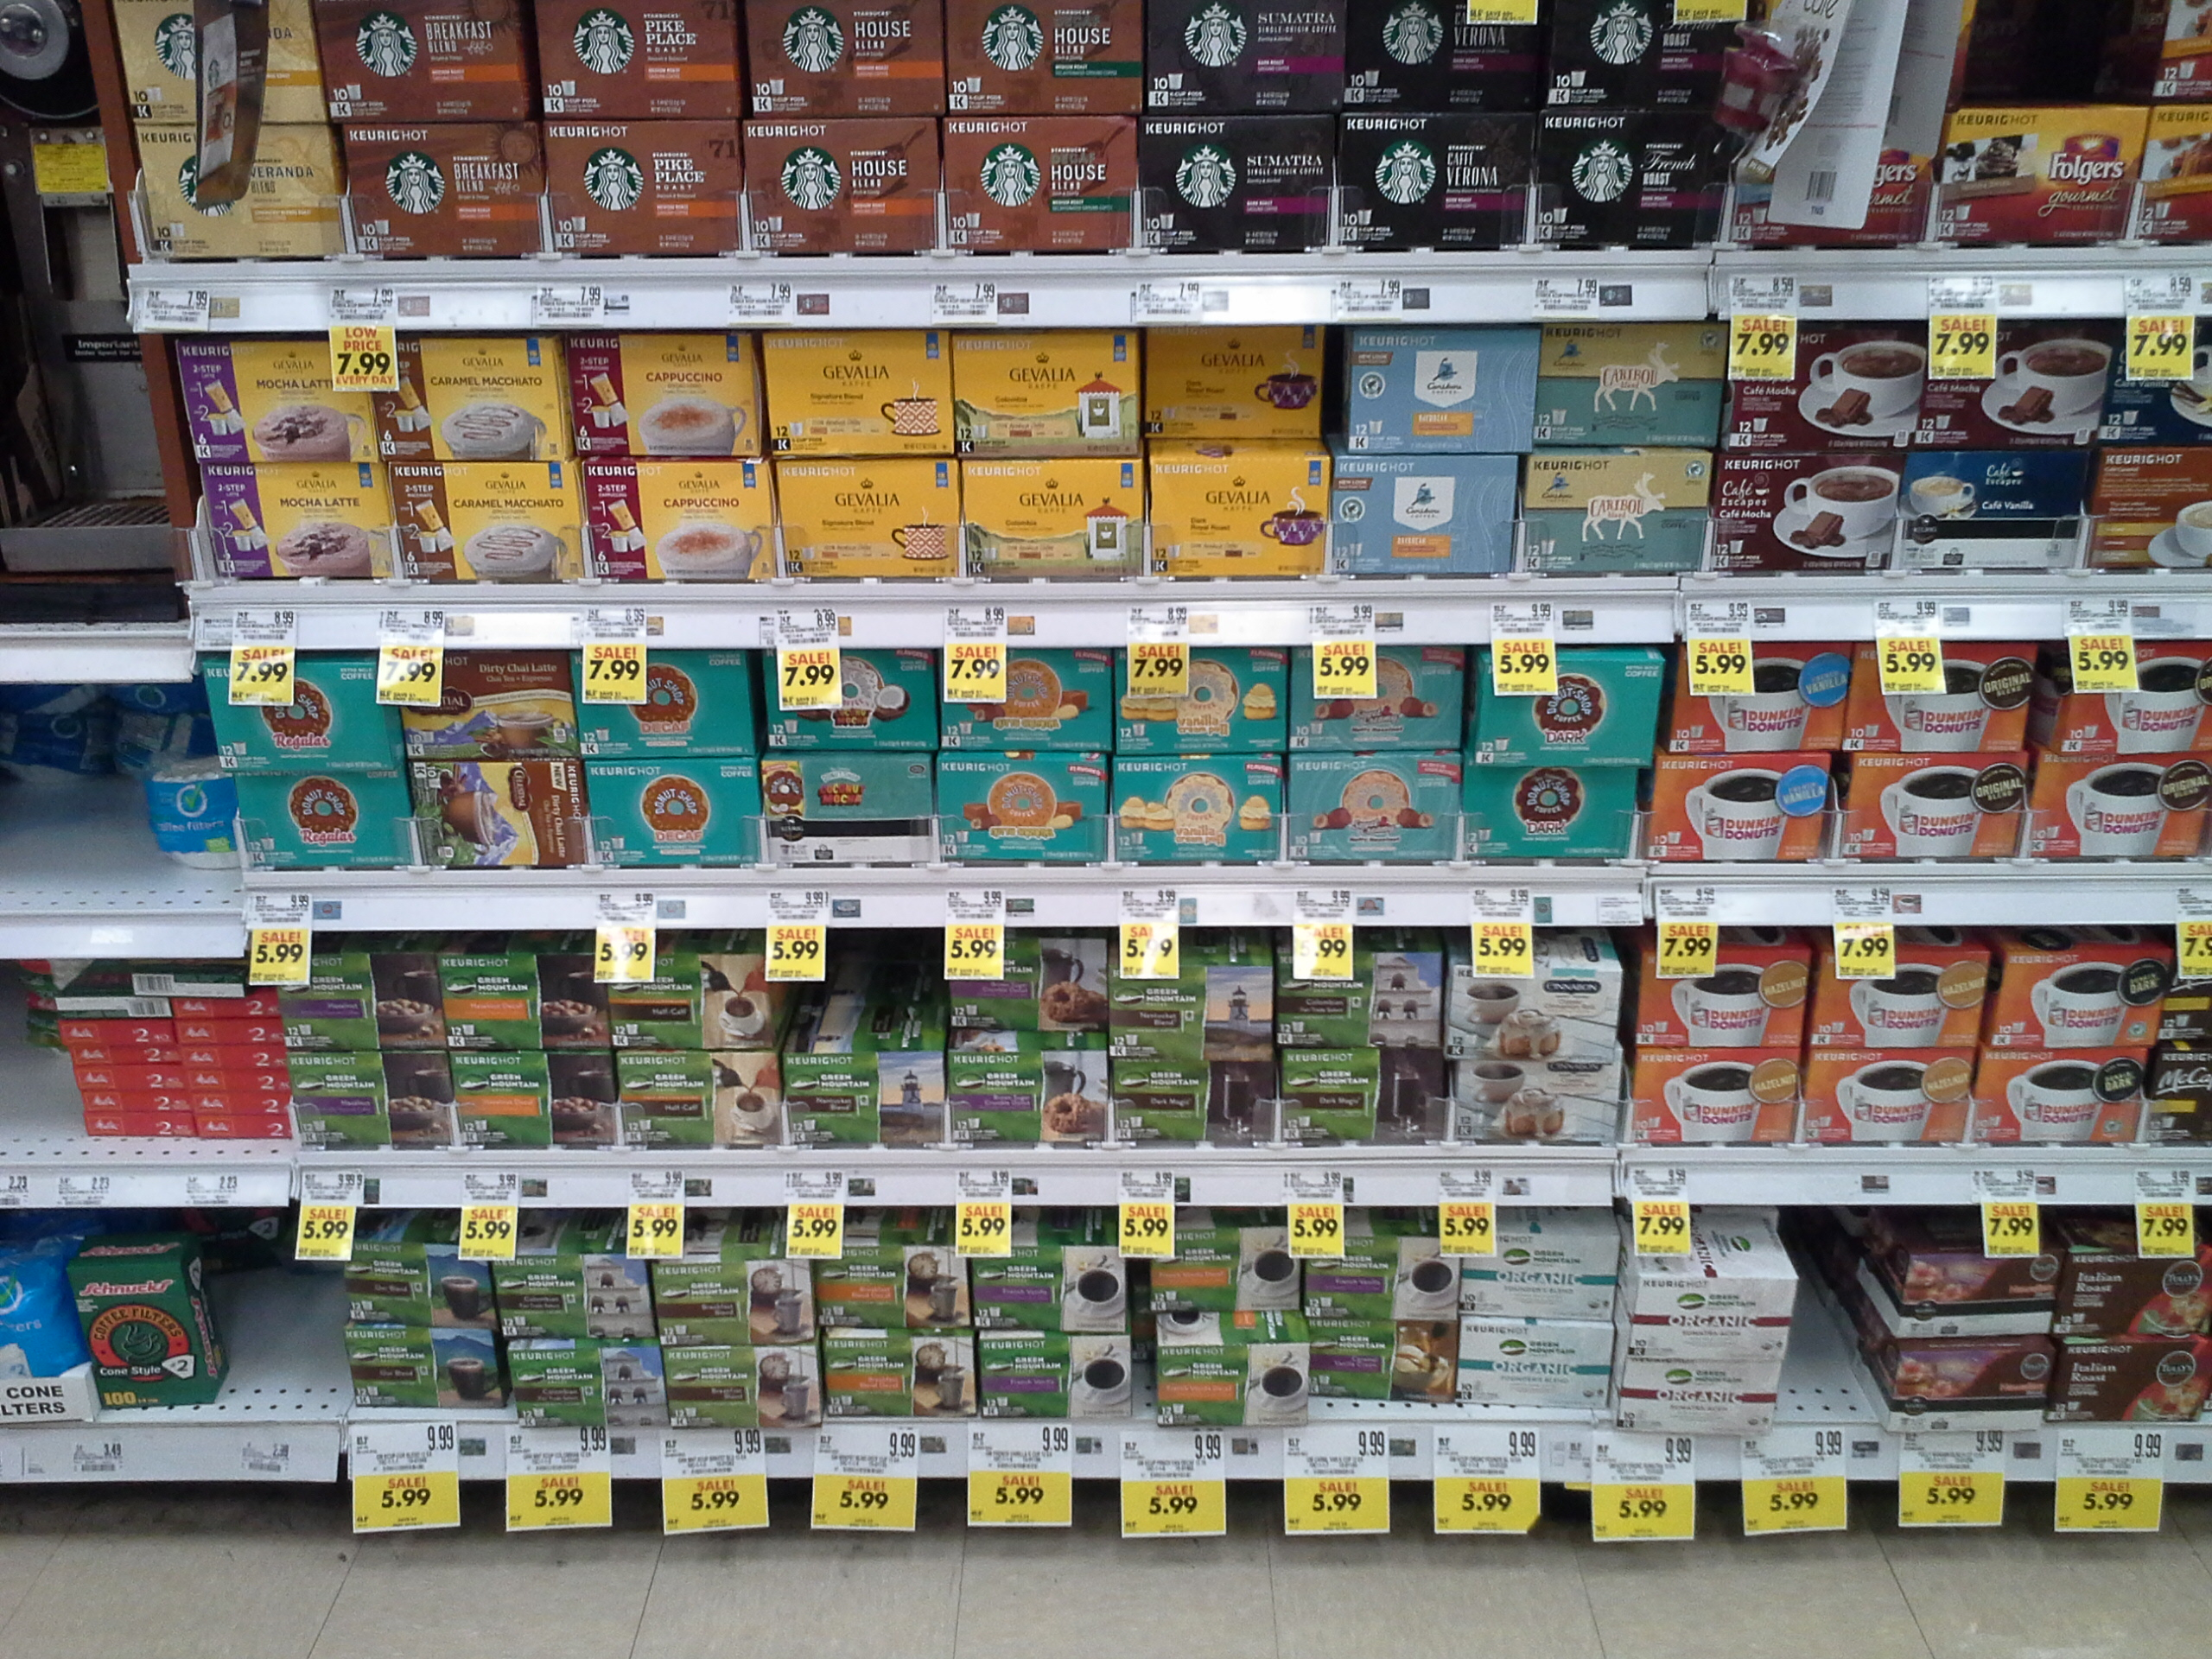Misplacement: (1144, 324, 1331, 586)
